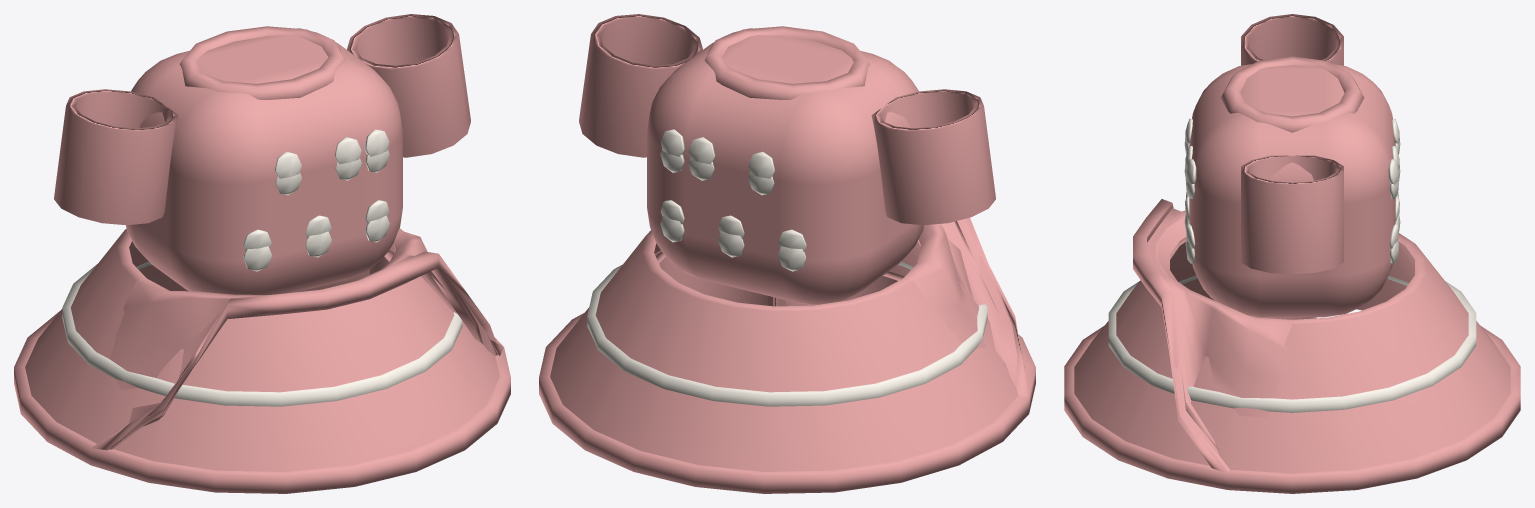
Rendered from casual_chic_dress.glb.
The picture shows the model from 3 angles, left to right: view 1: azimuth 30°, elevation 25°; view 2: azimuth 150°, elevation 25°; view 3: azimuth 270°, elevation 25°; orthographic projection. The views are drawn at different scales.
Parts seen in each view (by area): view 1: casual_chic_dress_Body, casual_chic_dress_Body_sit, casual_chic_dress_ArmL, casual_chic_dress_ArmR; view 2: casual_chic_dress_Body, casual_chic_dress_Body_sit, casual_chic_dress_ArmL, casual_chic_dress_ArmR, casual_chic_dress_LegR_sit, casual_chic_dress_LegL_sit; view 3: casual_chic_dress_Body, casual_chic_dress_Body_sit, casual_chic_dress_ArmR, casual_chic_dress_ArmL.
Boxes of the visible parts, x1=… form: casual_chic_dress_Body: x1=14, y1=26, x2=510, y2=493; casual_chic_dress_Body_sit: x1=91, y1=59, x2=503, y2=450; casual_chic_dress_ArmL: x1=54, y1=89, x2=178, y2=225; casual_chic_dress_ArmR: x1=347, y1=14, x2=470, y2=157; casual_chic_dress_Body: x1=539, y1=26, x2=1035, y2=493; casual_chic_dress_Body_sit: x1=647, y1=59, x2=1028, y2=396; casual_chic_dress_ArmL: x1=871, y1=89, x2=995, y2=225; casual_chic_dress_ArmR: x1=579, y1=14, x2=702, y2=157; casual_chic_dress_LegR_sit: x1=654, y1=250, x2=777, y2=306; casual_chic_dress_LegL_sit: x1=773, y1=271, x2=904, y2=306; casual_chic_dress_Body: x1=1064, y1=56, x2=1520, y2=493; casual_chic_dress_Body_sit: x1=1133, y1=115, x2=1414, y2=473; casual_chic_dress_ArmR: x1=1241, y1=155, x2=1343, y2=274; casual_chic_dress_ArmL: x1=1241, y1=14, x2=1343, y2=65.
Size of the model in its own units: 0.648 by 0.5289 by 0.6414.
